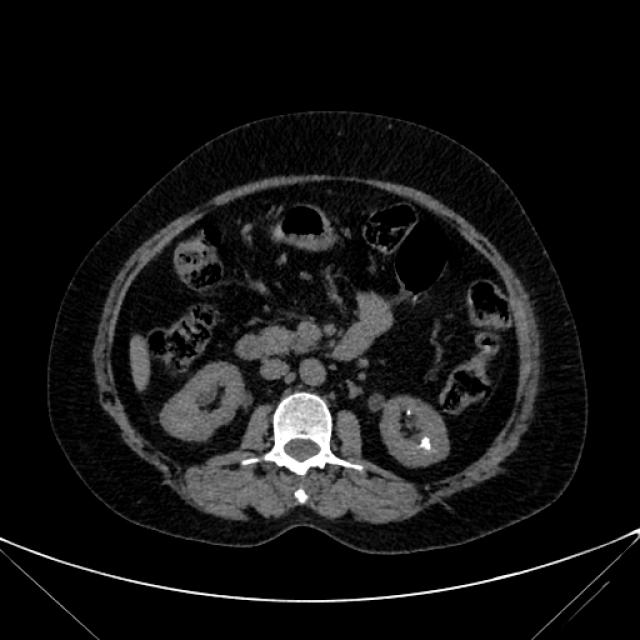kidney: (160, 359, 256, 443), (382, 396, 452, 470)
stone: (419, 435, 432, 451), (407, 410, 413, 417)
